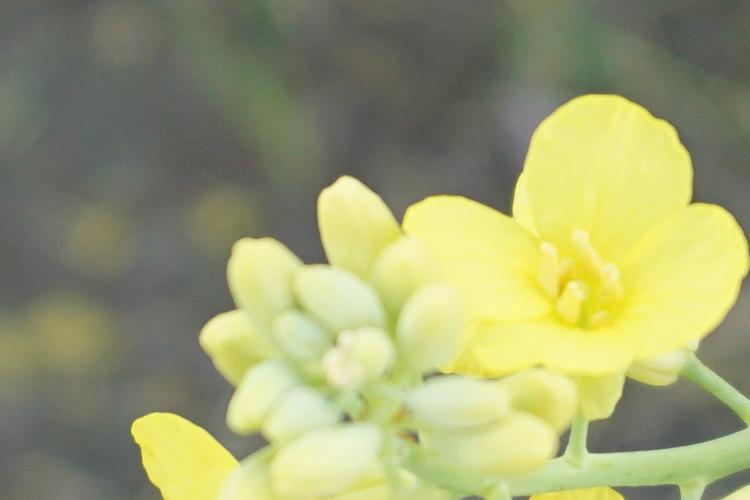bud: (212, 227, 318, 328), (309, 178, 406, 274), (291, 270, 388, 350), (428, 418, 564, 475), (269, 425, 387, 489), (378, 237, 452, 324), (394, 289, 462, 381), (400, 378, 508, 434), (277, 310, 351, 389), (194, 314, 281, 380), (503, 370, 585, 435), (226, 364, 296, 436), (258, 388, 344, 440)
yellow: (416, 61, 733, 393)
